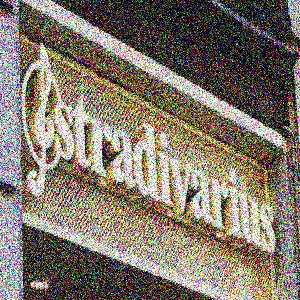stradivarius: (275, 168, 300, 195)
